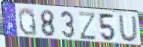3: (60, 10, 76, 40)
5: (99, 12, 118, 43)
8: (39, 9, 56, 38)
Q: (17, 7, 38, 37)
U: (118, 15, 139, 43)
Z: (77, 11, 98, 42)
